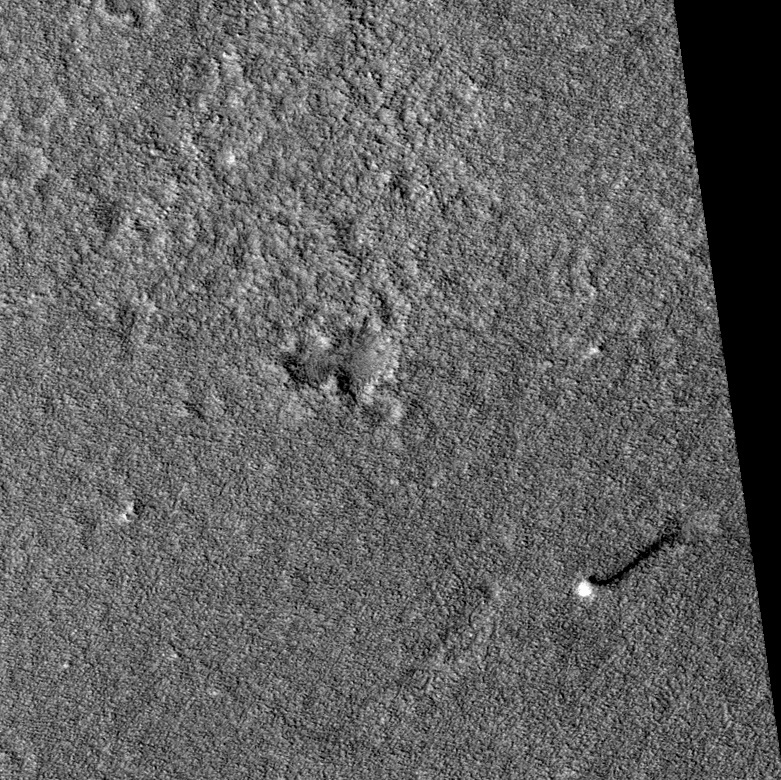dust_devil: (574, 518, 686, 598)
